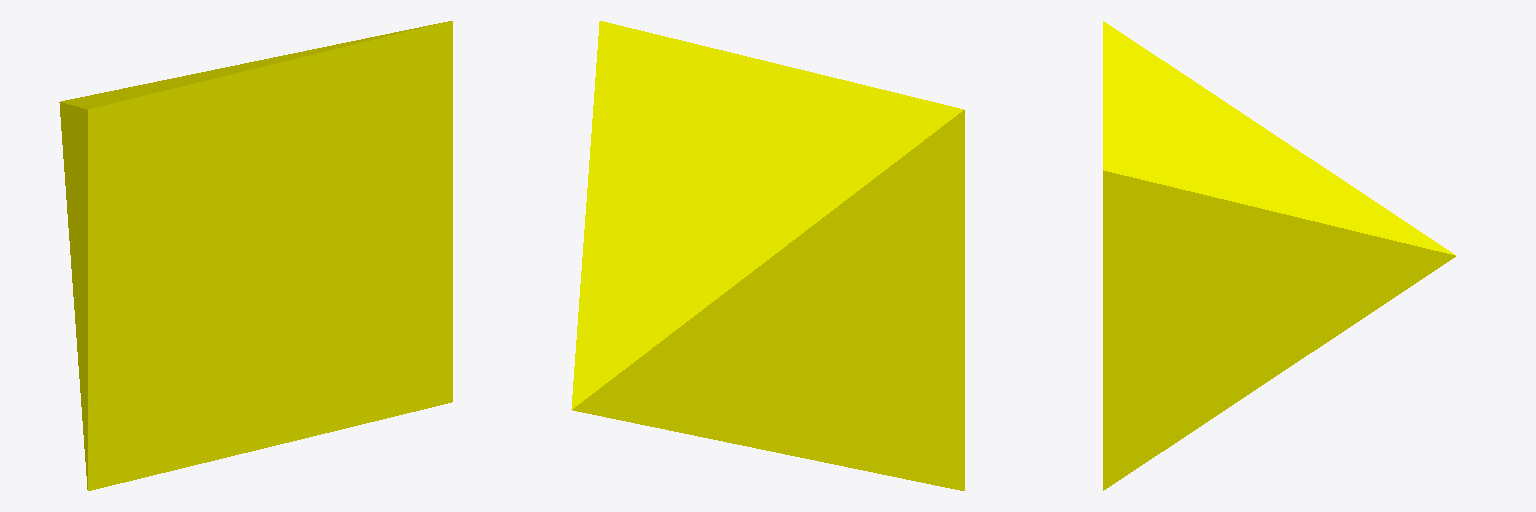
robot.urdf — pyramid:
<?xml version="1.0" ?>
<robot name="pyramid">
  <link name="baseLink">
    <contact>
      <lateral_friction value="1.0"/>
      <rolling_friction value="0.0"/>
      <contact_cfm value="0.0"/>
      <contact_erp value="1.0"/>
    </contact>
    <inertial>
      <origin rpy="0 0 0" xyz="0 0 0"/>
       <mass value="1.0"/>
       <inertia ixx="1" ixy="0" ixz="0" iyy="1" iyz="0" izz="1"/>
    </inertial>
    <visual>
      <origin rpy="0 0 0" xyz="0 0 0"/>
      <geometry>
				<mesh filename="pyramid.obj" scale="0.5 0.5 0.5"/>
      </geometry>
       <material name="yellow">
        <color rgba="1 1 0 1"/>
      </material>
    </visual>
    <collision>
      <origin rpy="0 0 0" xyz="0 0 0"/>
      <geometry>
	 	<mesh filename="pyramid.obj" scale="0.5 0.5 0.5"/>
      </geometry>
    </collision>
  </link>
</robot>

--- What the picture shows (computed from the rendered views, not written in the file) ---
3 views of the same robot in one strip: view 1: azimuth 30°, elevation 25°; view 2: azimuth 150°, elevation 25°; view 3: azimuth 270°, elevation 25° (orthographic).
Model pyramid with 1 links and 0 joints (none), rooted at baseLink, posed every joint at zero.
Links seen in each view (by area): view 1: baseLink; view 2: baseLink; view 3: baseLink.
Link boxes in pixels (left/top/right/bottom): baseLink: left=59, top=21, right=452, bottom=490; baseLink: left=571, top=21, right=964, bottom=490; baseLink: left=1103, top=21, right=1455, bottom=490.
Bounding box of the posed robot: 1 × 1 × 1 m (x, y, z).
1 mesh visuals loaded from 1 distinct referenced files (1 OBJ).